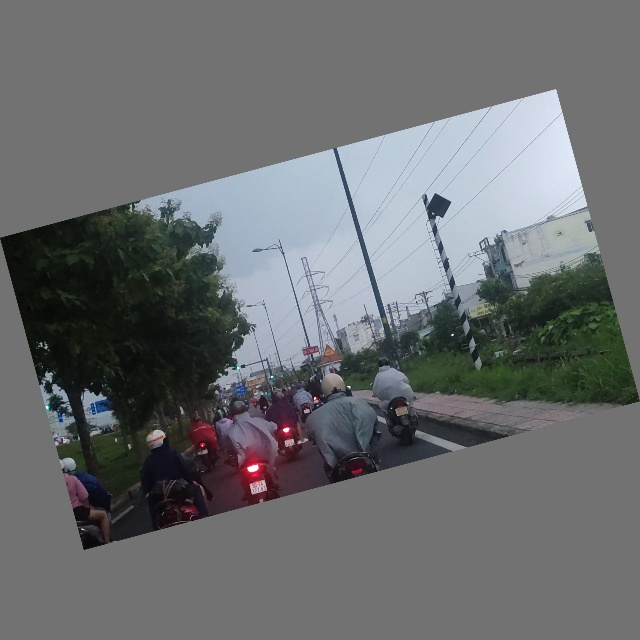W.210: (320, 343, 336, 359)
